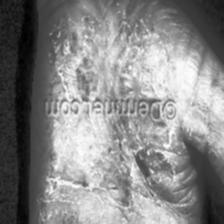Non-Cancerous Skin Condition: (40, 122, 184, 214), (48, 5, 184, 98)
